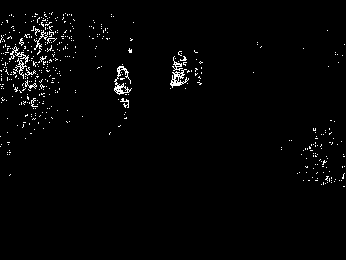person: (112, 63, 141, 118)
